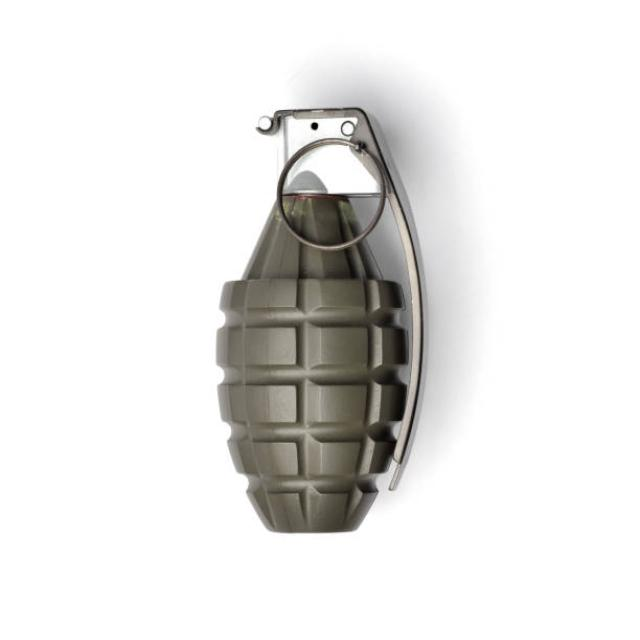grenade: (202, 99, 439, 549)
